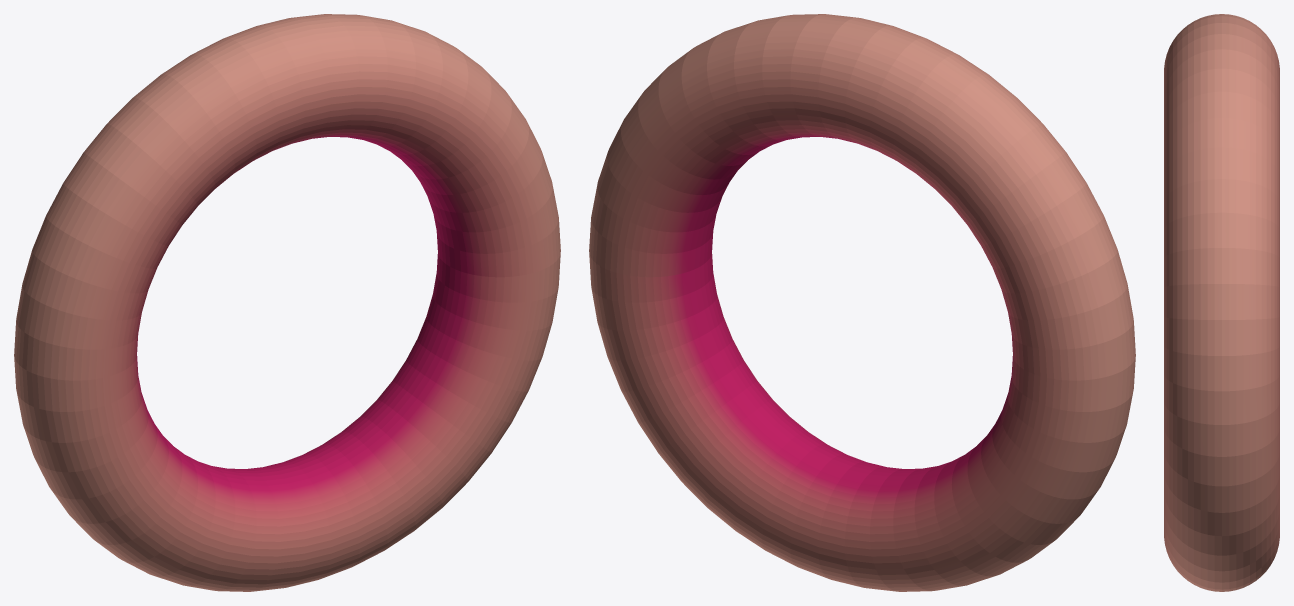
3 renders of one model, left to right at view 1: azimuth 30°, elevation 25°; view 2: azimuth 150°, elevation 25°; view 3: azimuth 270°, elevation 25°, orthographic. The views are drawn at different scales.
Parts seen in each view (by area): view 1: world; view 2: world; view 3: world.
Boxes of the visible parts, x1,y1,x2,y2 form: world: (14, 14, 560, 591); world: (589, 14, 1135, 591); world: (1164, 14, 1279, 591).
Size of the model in its own units: 32.53 by 32.47 by 6.52.
